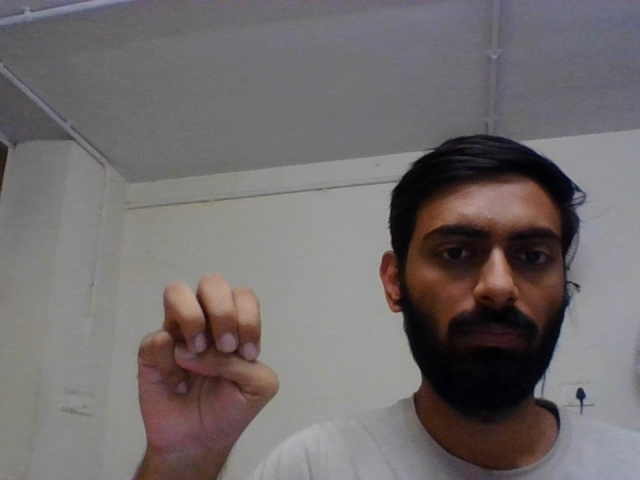M: (125, 266, 285, 480)
